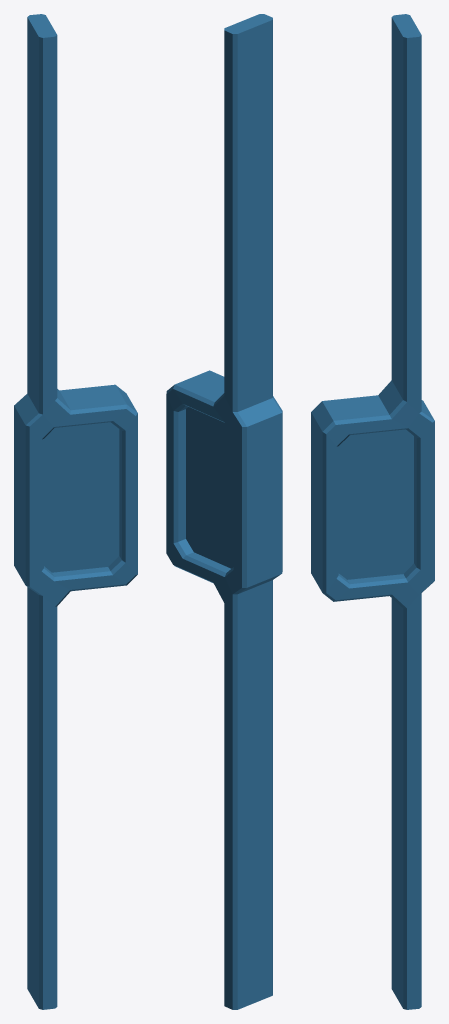
The model's file is closetLipRight.fbx.
3 renders of one model, left to right at view 1: azimuth 90°, elevation 25°; view 2: azimuth 210°, elevation 25°; view 3: azimuth 270°, elevation 25°, orthographic.
Parts seen in each view (by area): view 1: doorlipright; view 2: doorlipright; view 3: doorlipright.
Boxes of the visible parts, <box> form: doorlipright: <box>14,14,137,1009</box>; doorlipright: <box>166,14,282,1009</box>; doorlipright: <box>311,14,434,1009</box>.
Size of the model in its own units: 15.38 by 206 by 23.84.
